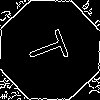T: (25, 25, 78, 70)
